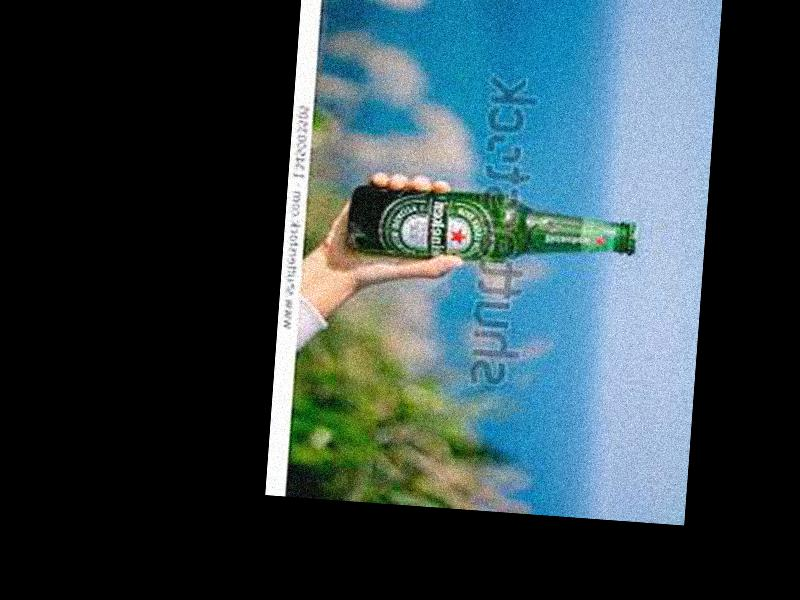Beer: (349, 184, 639, 276)
